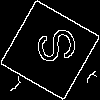S: (25, 25, 79, 69)
